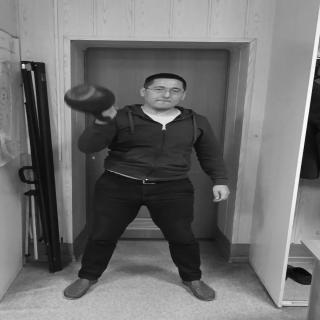girya: (64, 84, 117, 124)
